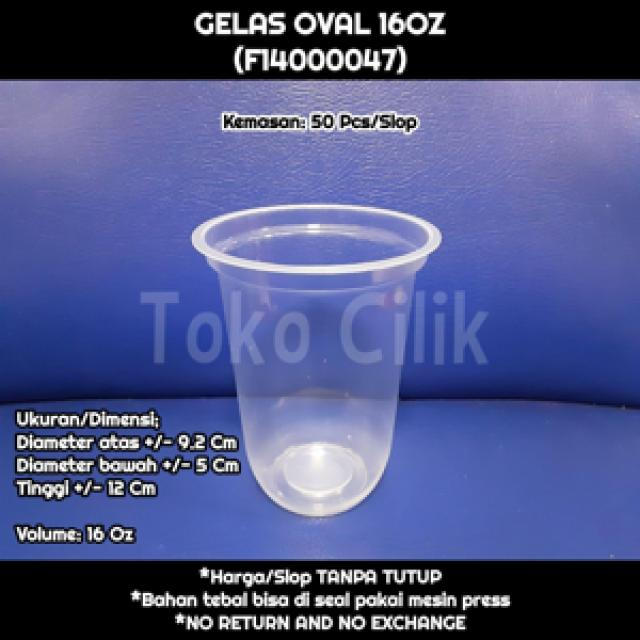plastic cup: (186, 194, 448, 523)
